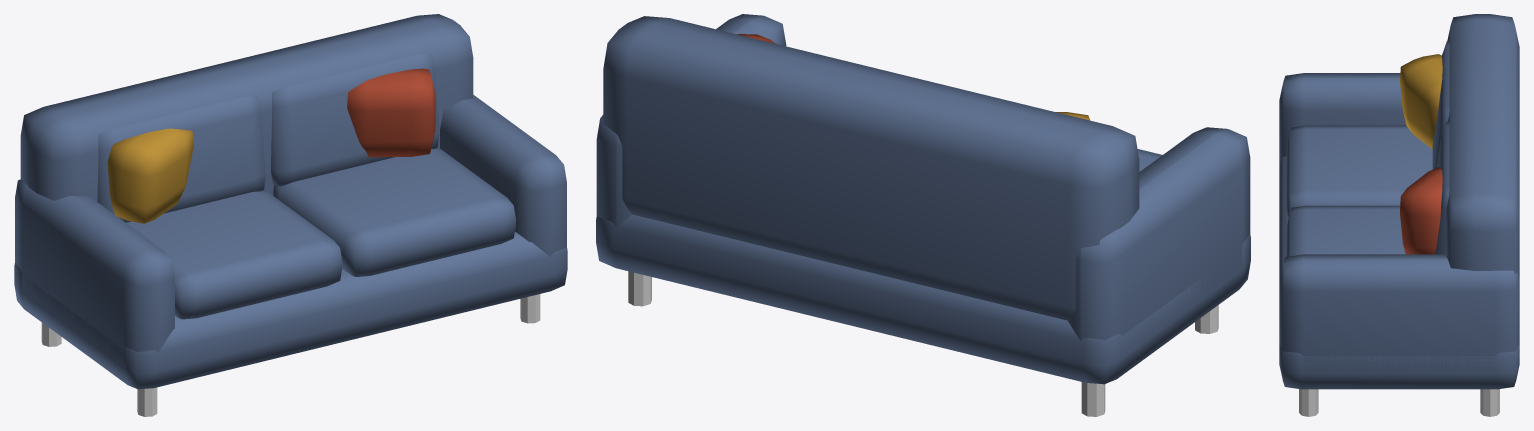
The model's file is sofa2.glb.
The picture shows the model from 3 angles, left to right: view 1: azimuth 30°, elevation 25°; view 2: azimuth 150°, elevation 25°; view 3: azimuth 270°, elevation 25°; orthographic projection. The views are drawn at different scales.
Visible parts, largest first — view 1: sofa2; view 2: sofa2; view 3: sofa2.
Part boxes in pixels (x1,y1,x2,y2): sofa2: (14,14,567,416); sofa2: (596,14,1250,416); sofa2: (1279,14,1519,416).
Size of the model in its own units: 2.24 by 1.13 by 1.13.
